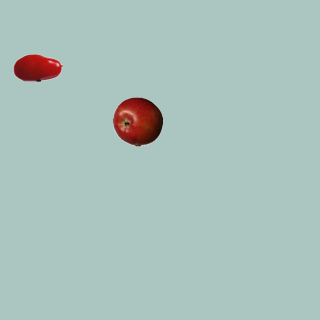Apple Braeburn: (112, 96, 162, 146)
Tomato 2: (12, 42, 62, 92)
